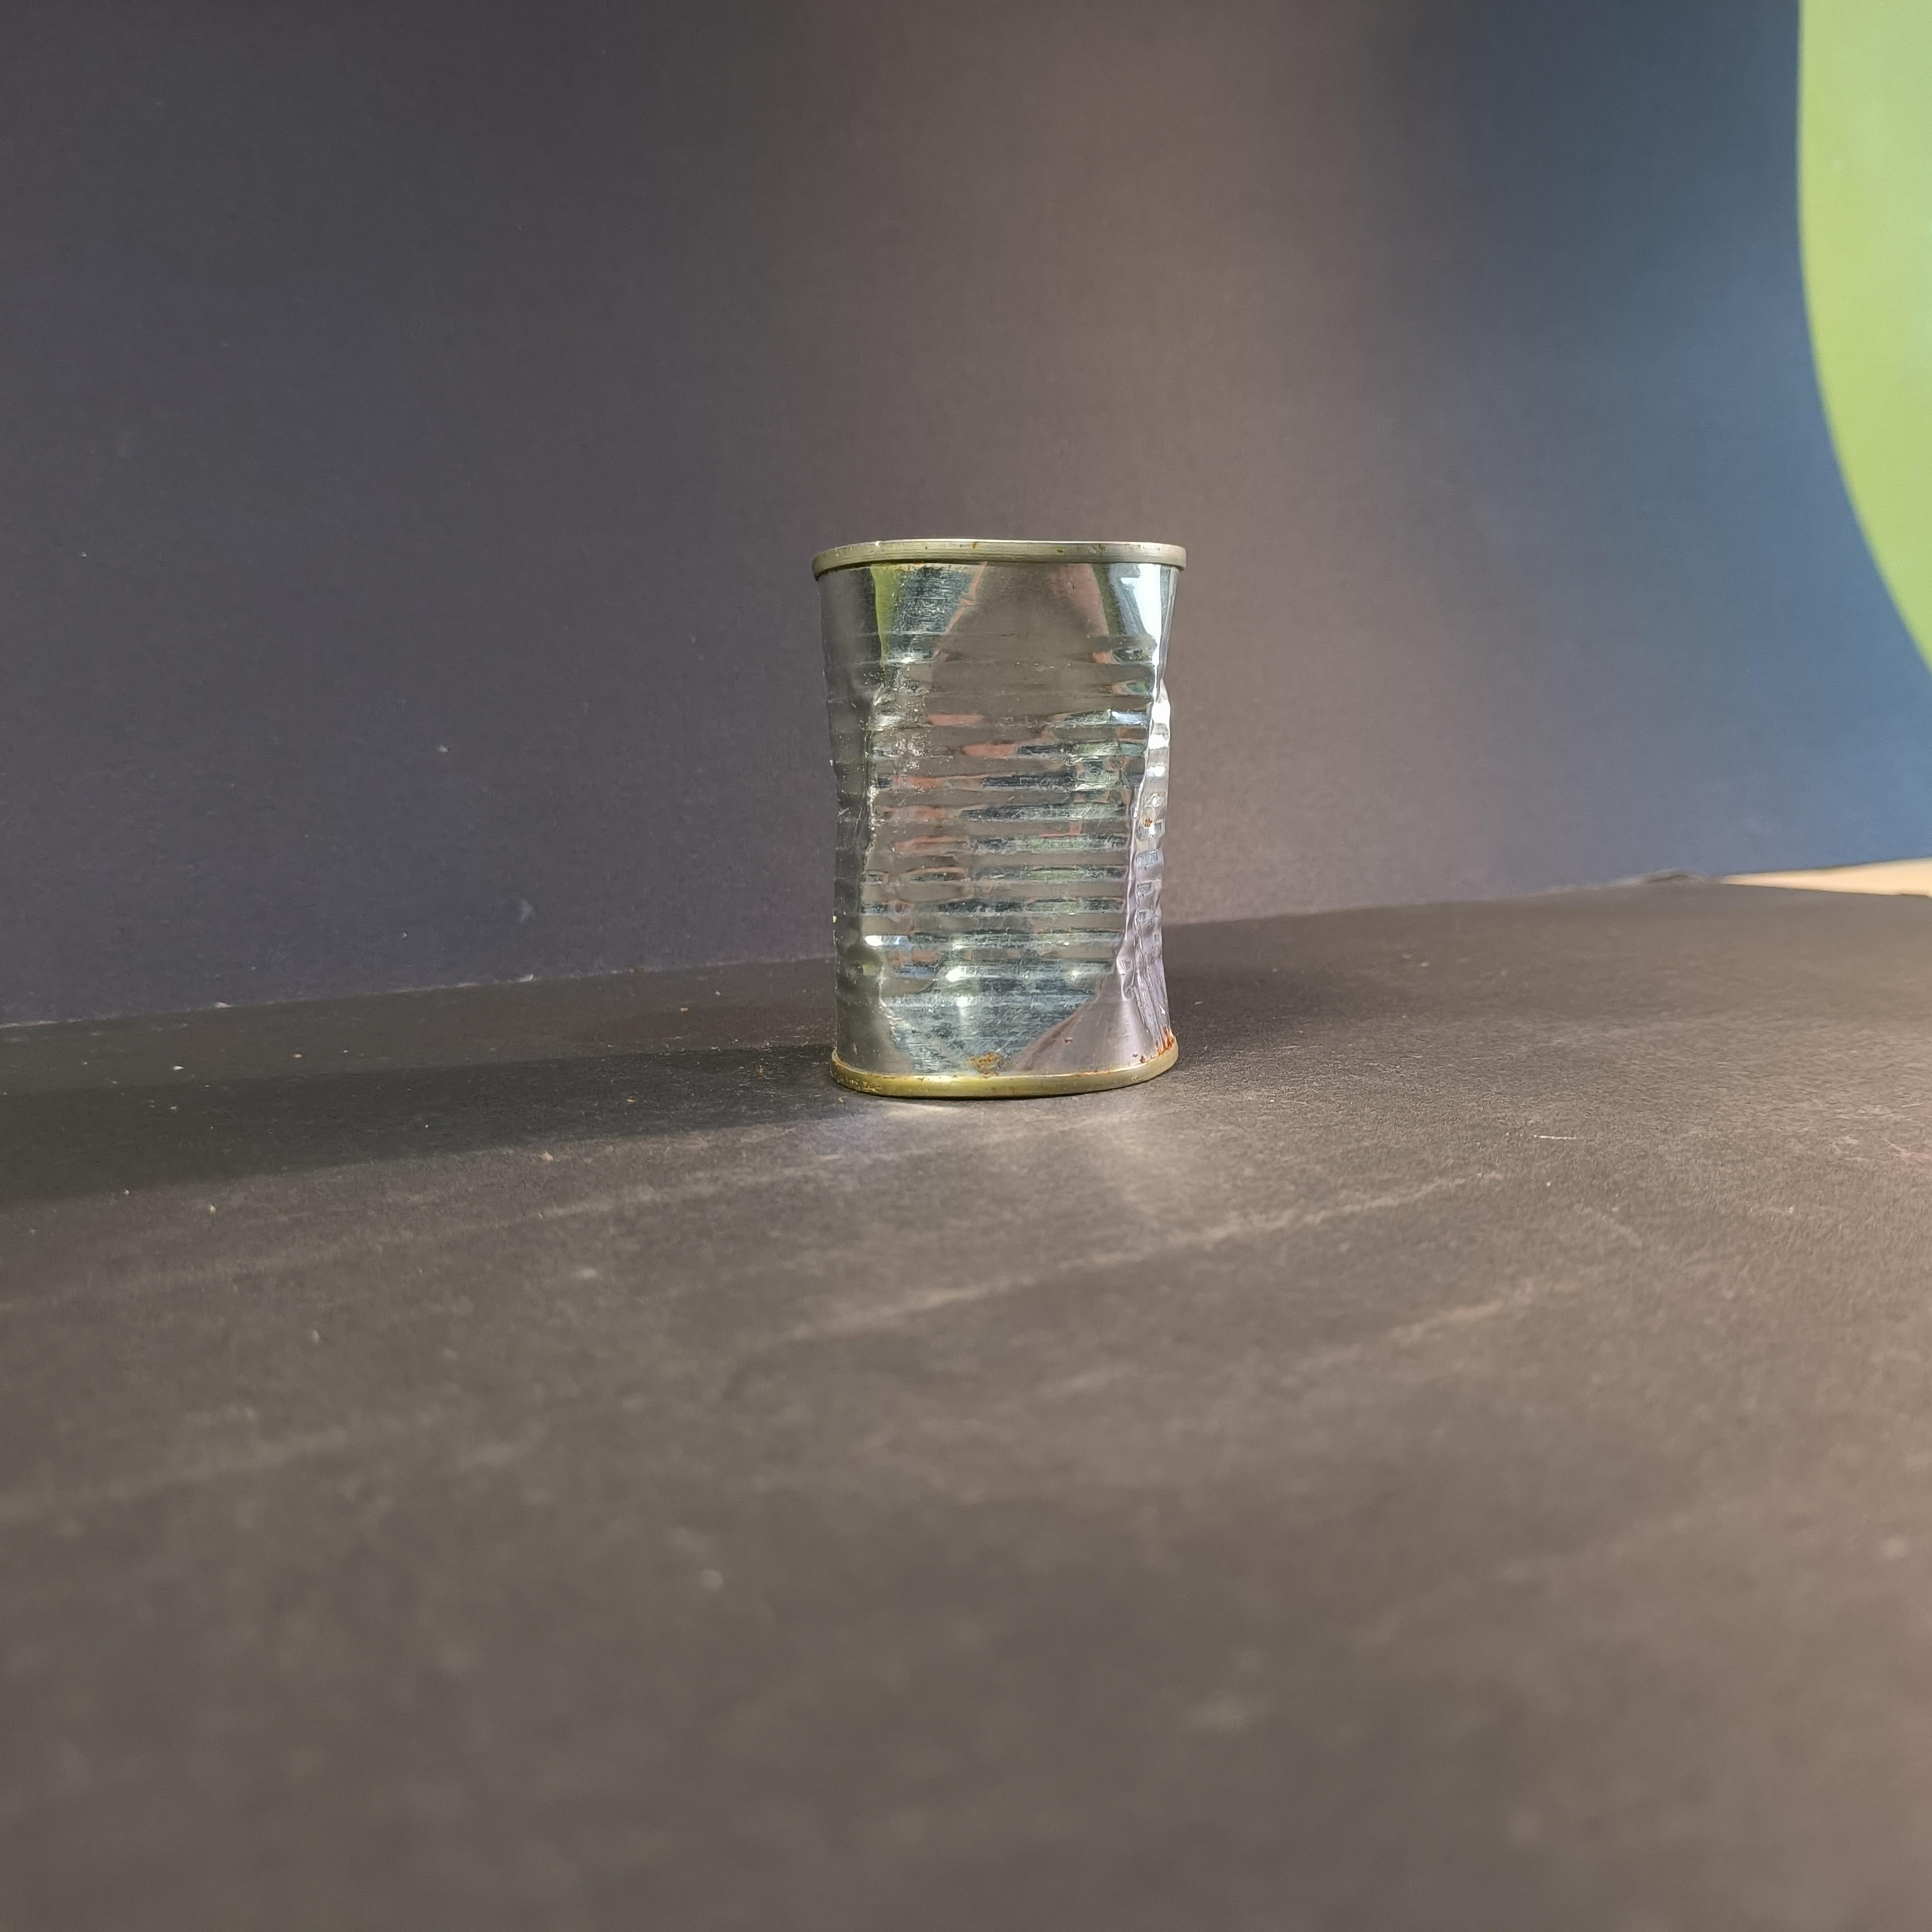Dented: (796, 506, 1219, 1116)
